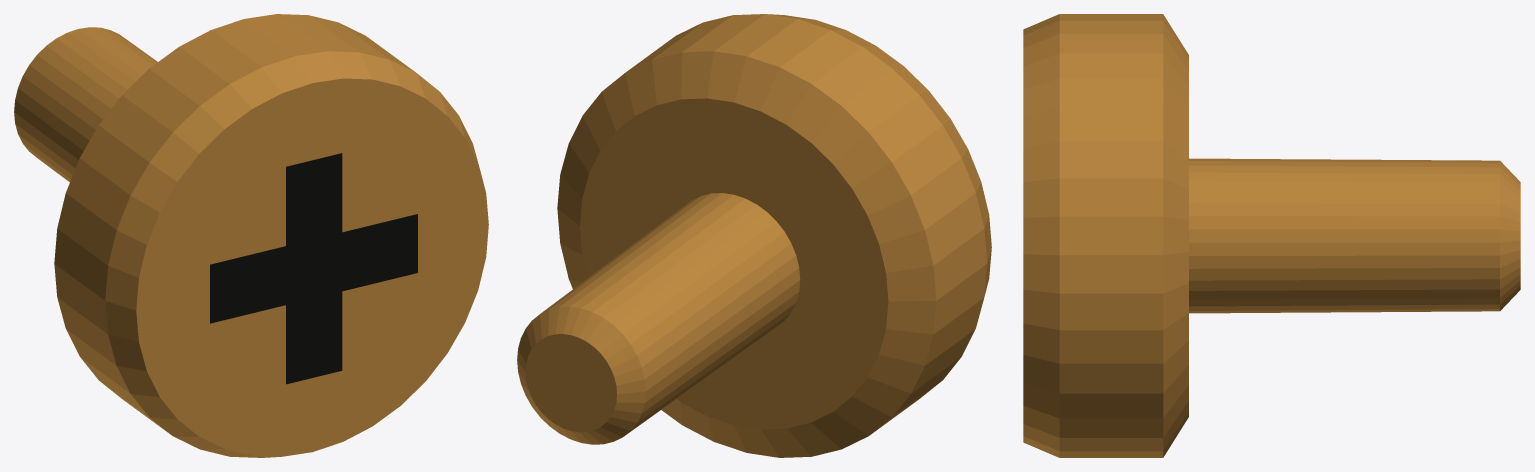
The model's file is Screw_Phillips_Brass.obj.
The picture shows the model from 3 angles, left to right: view 1: azimuth 30°, elevation 25°; view 2: azimuth 150°, elevation 25°; view 3: azimuth 270°, elevation 25°; orthographic projection.
Parts seen in each view (by area): view 1: Screw_Phillips_Brass; view 2: Screw_Phillips_Brass; view 3: Screw_Phillips_Brass.
Part boxes in pixels (x1,y1,x2,y2): Screw_Phillips_Brass: (14,14,488,457); Screw_Phillips_Brass: (517,14,991,457); Screw_Phillips_Brass: (1023,14,1520,457).
Bounding box in the file's own units: 0.43 × 0.43 × 0.483.
